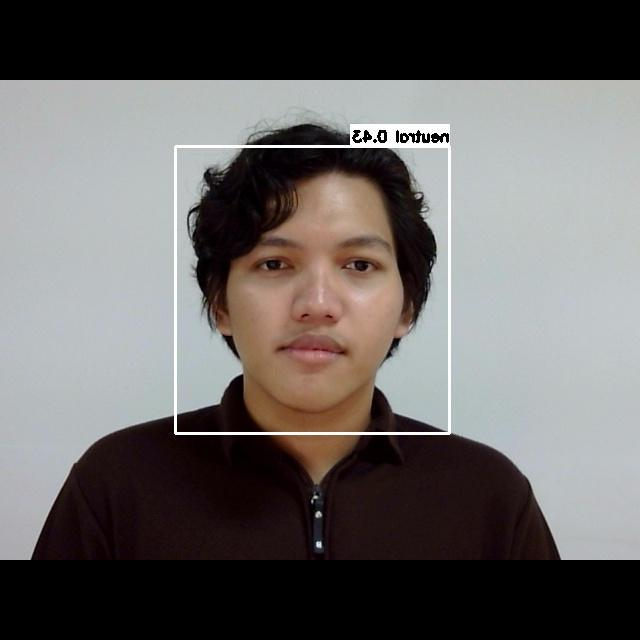Natural: (216, 204, 418, 421)
